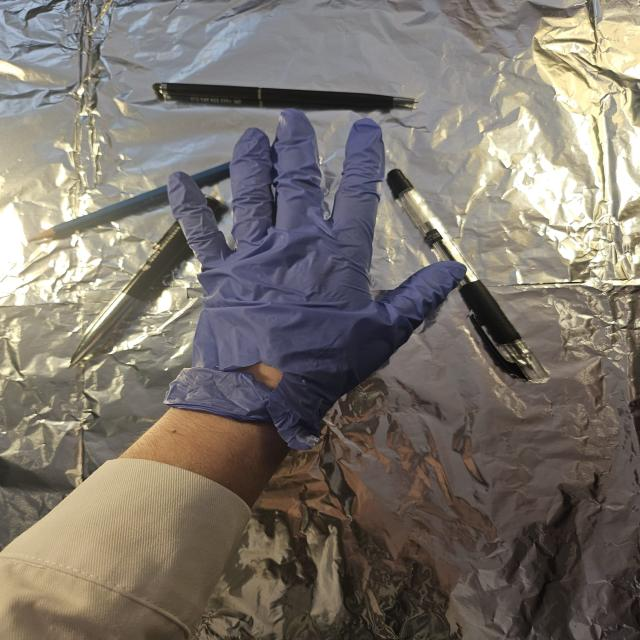gloves_damaged: (162, 107, 469, 450)
